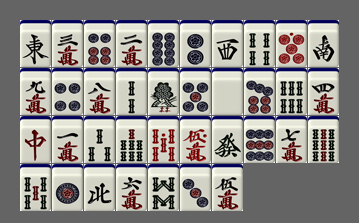0m: (180, 116, 211, 163)
0p: (276, 20, 307, 67)
0s: (148, 116, 179, 163)
1m: (52, 116, 83, 163)
1p: (52, 164, 83, 211)
1s: (148, 68, 179, 115)
1z: (20, 20, 51, 67)
2m: (116, 20, 147, 67)
2p: (180, 20, 211, 67)
2s: (116, 68, 147, 115)
2z: (308, 20, 339, 67)
3m: (52, 20, 83, 67)
3p: (180, 164, 211, 211)
3s: (84, 116, 115, 163)
3z: (212, 20, 243, 67)
4m: (308, 68, 339, 115)
4p: (52, 68, 83, 115)
4s: (244, 20, 275, 67)
4z: (84, 164, 115, 211)
5m: (212, 164, 243, 211)
5p: (180, 68, 211, 115)
5s: (20, 164, 51, 211)
5z: (212, 68, 243, 115)
6m: (116, 164, 147, 211)
6p: (84, 20, 115, 67)
6s: (276, 68, 307, 115)
6z: (212, 116, 243, 163)
7m: (276, 116, 307, 163)
7p: (244, 68, 275, 115)
7s: (116, 116, 147, 163)
7z: (20, 116, 51, 163)
8m: (84, 68, 115, 115)
8p: (148, 20, 179, 67)
8s: (148, 164, 179, 211)
9m: (20, 68, 51, 115)
9p: (244, 116, 275, 163)
9s: (308, 116, 339, 163)
